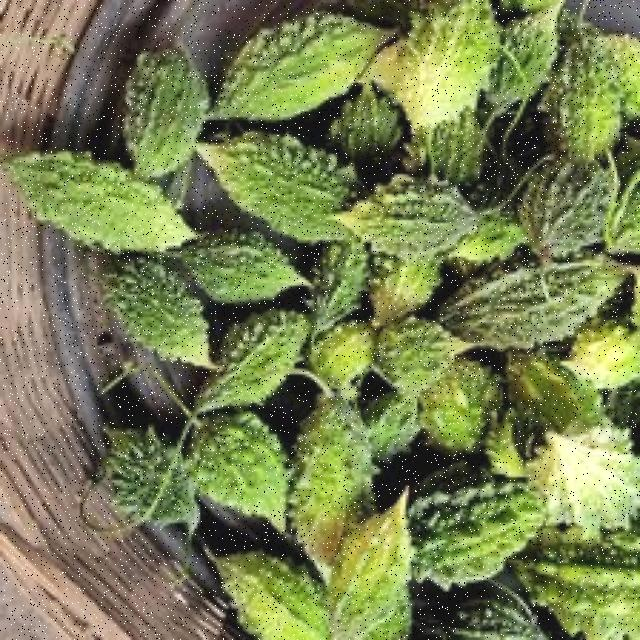Bitter Gourd: (188, 127, 502, 268), (362, 457, 570, 604), (174, 0, 401, 125), (10, 132, 217, 263), (138, 285, 328, 419), (382, 0, 502, 133), (564, 0, 640, 167), (458, 265, 618, 344)
